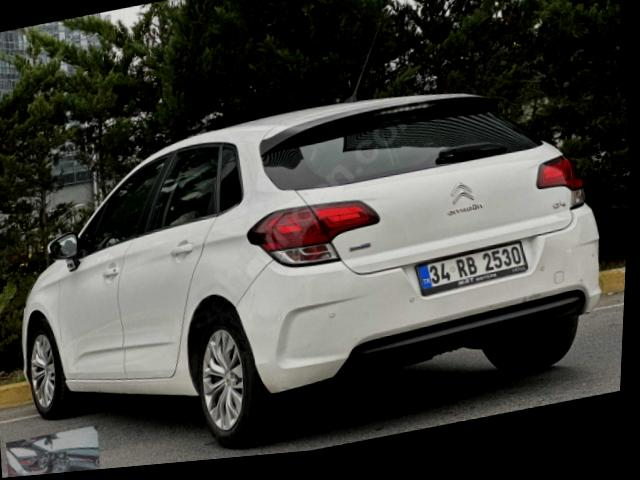plaka: (417, 242, 528, 295)
